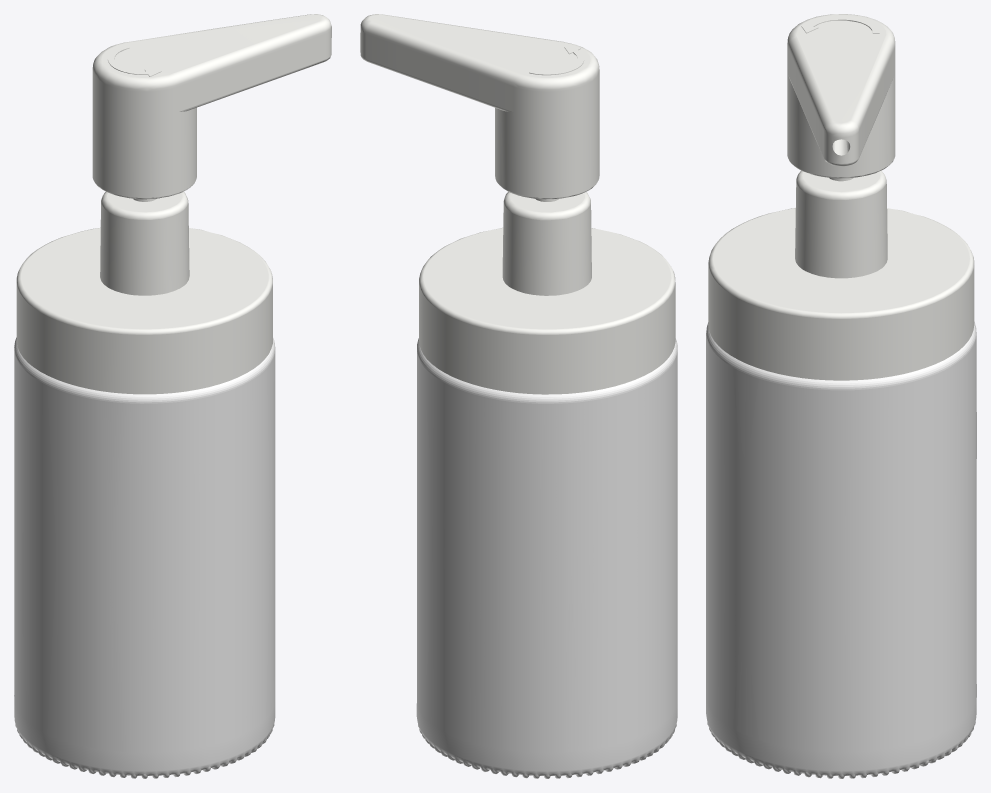
File: TACKAN distributeur savon blanc-scene-512.glb
3 views of the same model, side by side, from view 1: azimuth 30°, elevation 25°; view 2: azimuth 150°, elevation 25°; view 3: azimuth 270°, elevation 25° (orthographic). The views are drawn at different scales.
Parts seen in each view (by area): view 1: 2, 1; view 2: 2, 1; view 3: 2, 1.
Part boxes in pixels (<box>): 2: <box>14,337,275,778</box>; 1: <box>16,14,331,394</box>; 2: <box>416,338,677,778</box>; 1: <box>360,14,675,394</box>; 2: <box>706,321,976,778</box>; 1: <box>708,14,974,380</box>.
Bounding box in the file's own units: 0.079 × 0.1695 × 0.0601.
Materials: 2 (2 with a texture image).
